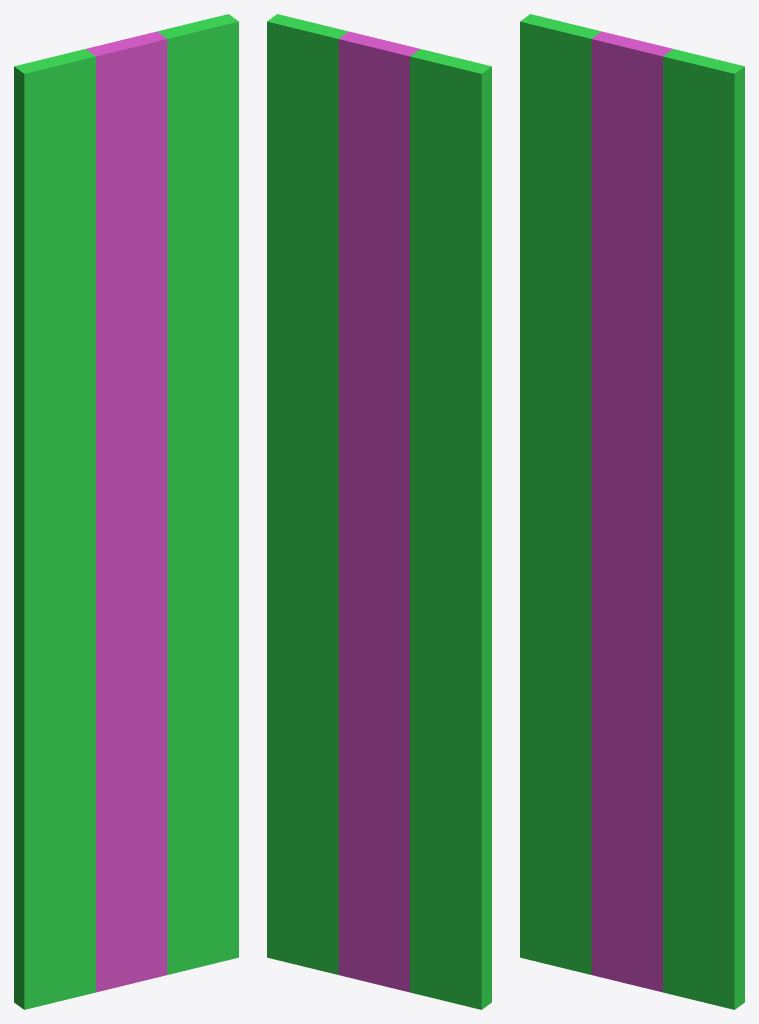
The model's file is TrackBlock.fbx.
3 views of the same model, side by side, from view 1: azimuth 30°, elevation 25°; view 2: azimuth 150°, elevation 25°; view 3: azimuth 330°, elevation 25° (orthographic).
Parts seen in each view (by area): view 1: Cube.002; view 2: Cube.002; view 3: Cube.002.
Boxes of the visible parts, box(x1,y1,x2,y2) form: Cube.002: box(14, 14, 238, 1009); Cube.002: box(267, 14, 491, 1009); Cube.002: box(520, 14, 744, 1009).
Bounding box in the file's own units: 2400 × 10000 × 200.
